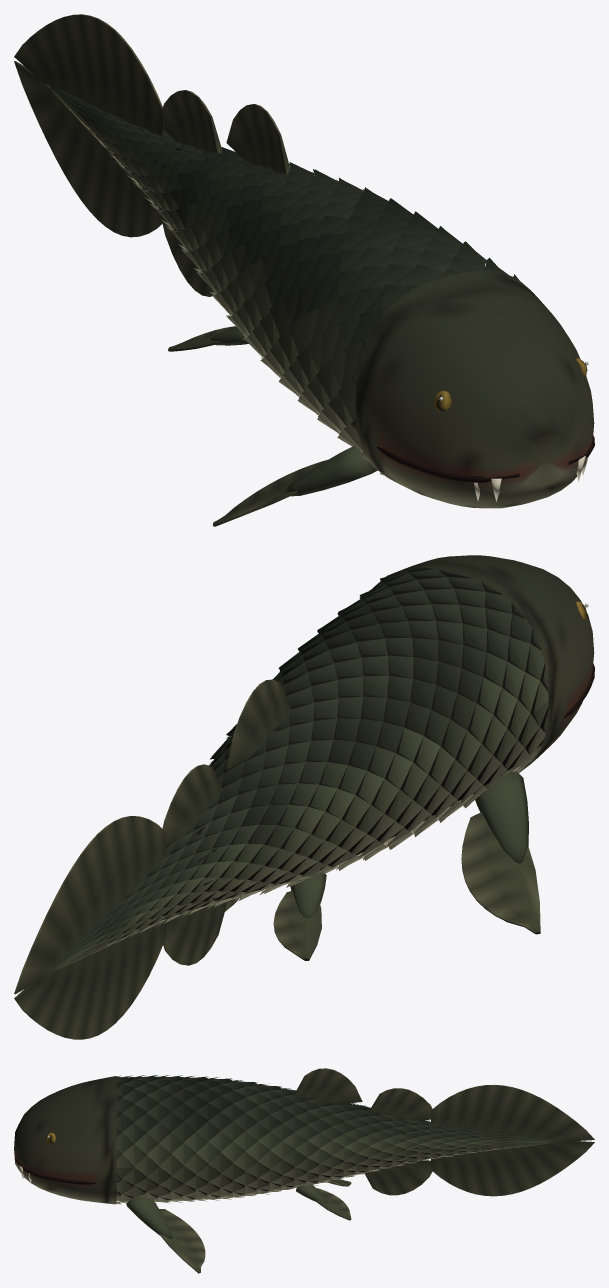
Rendered from Hyneria.fbx.
3 renders of one model, top to bottom at view 1: azimuth 30°, elevation 25°; view 2: azimuth 150°, elevation 25°; view 3: azimuth 270°, elevation 25°, orthographic. The views are drawn at different scales.
Parts seen in each view (by area): view 1: Hyneria; view 2: Hyneria; view 3: Hyneria.
Boxes of the visible parts, x1,y1,x2,y2 form: Hyneria: [14, 14, 594, 526]; Hyneria: [14, 555, 594, 1039]; Hyneria: [14, 1068, 594, 1273].
Bounding box in the file's own units: 0.6062 × 0.5227 × 1.7.
